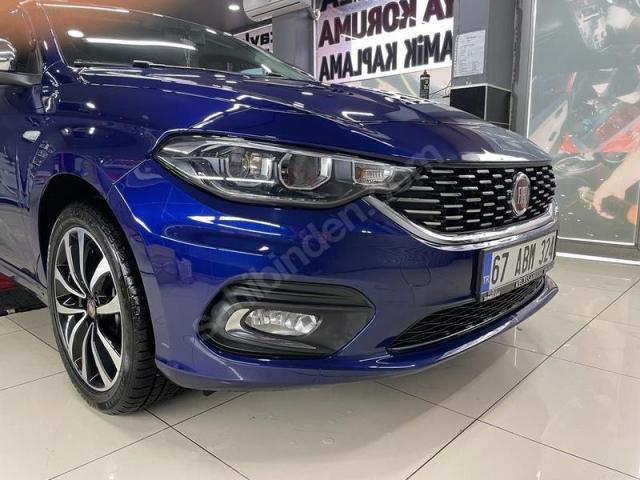plaka: (479, 234, 554, 300)
